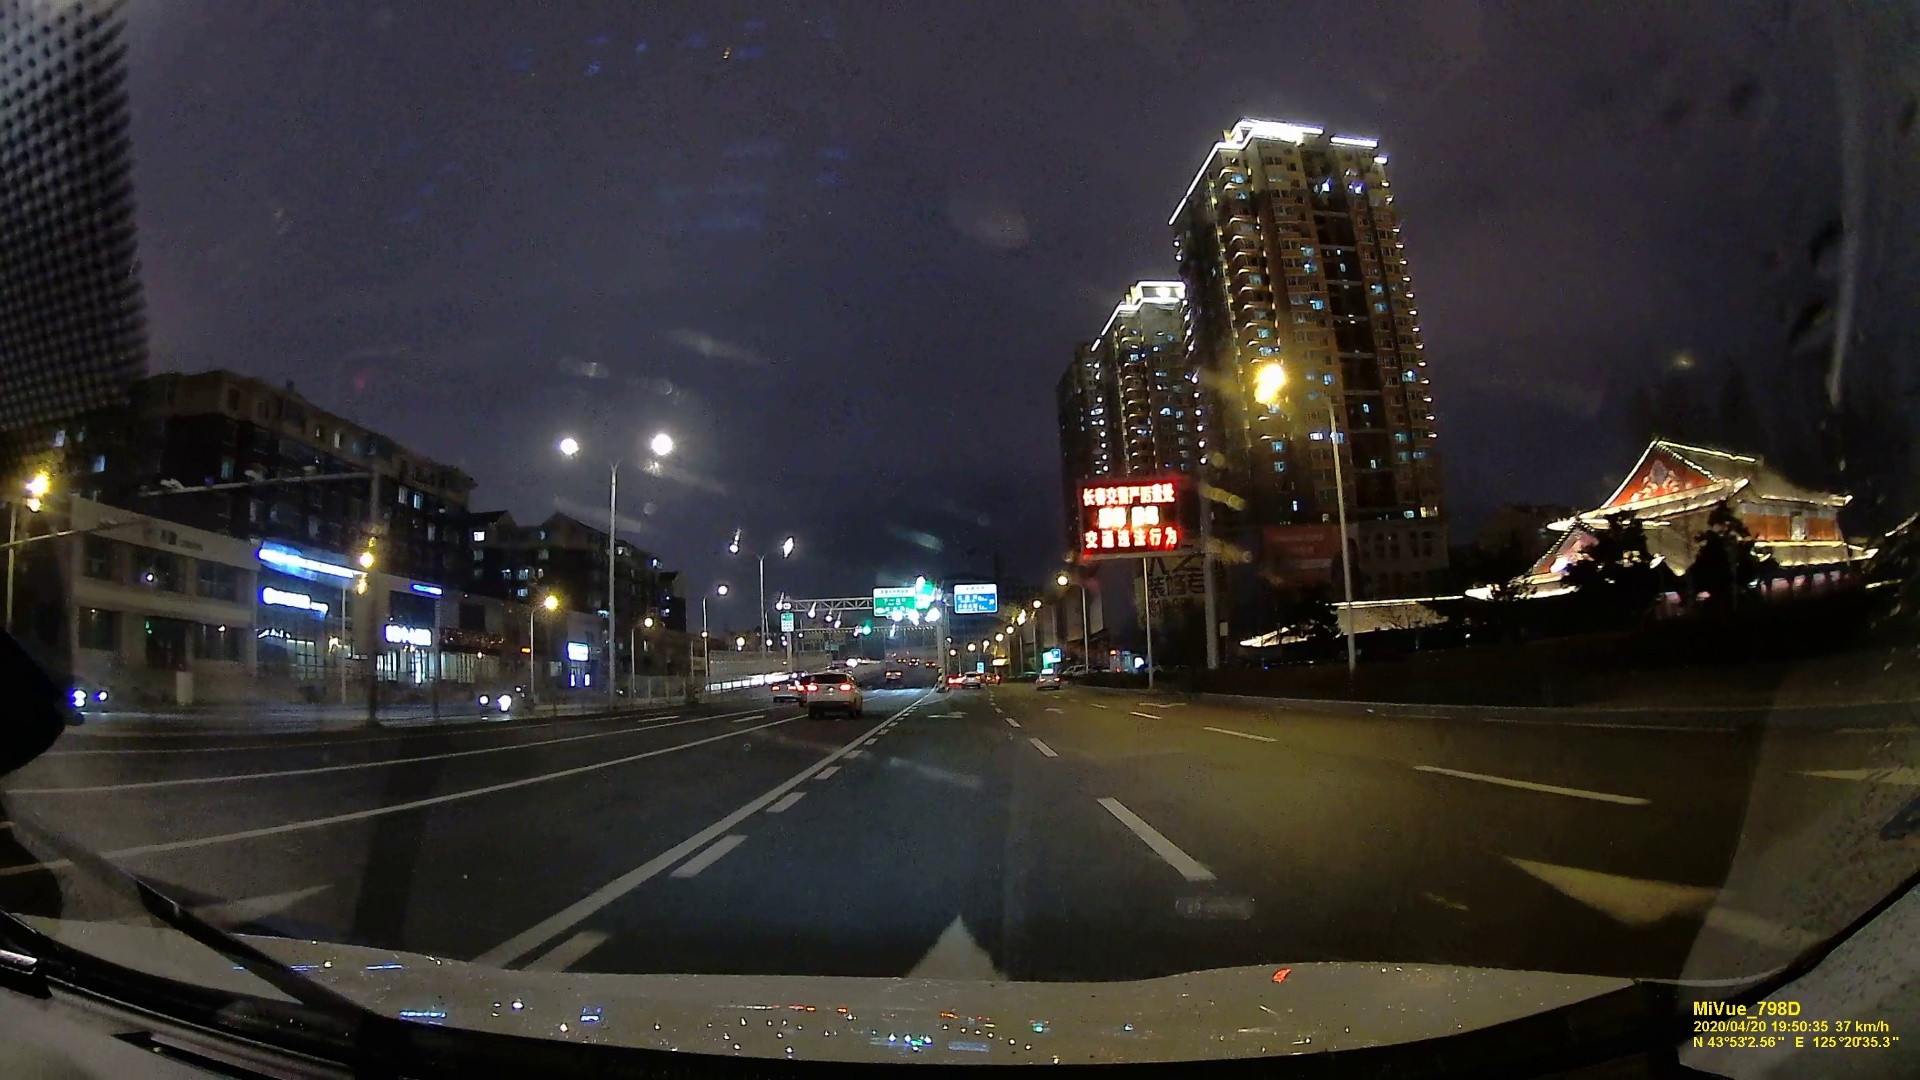traffic_sign: (955, 584, 996, 612), (873, 589, 915, 613)
vehicle: (804, 671, 858, 716), (477, 682, 530, 711), (771, 678, 802, 703), (1036, 671, 1060, 692)
